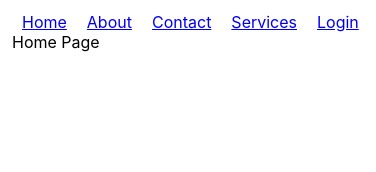
Scenario: Testing routing Application › App component should › have about link
Click the link "About": (109, 22) [87, 12, 132, 32]
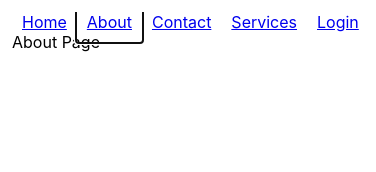
Expected: the text "About Page" is shown, [12, 32, 100, 52]
